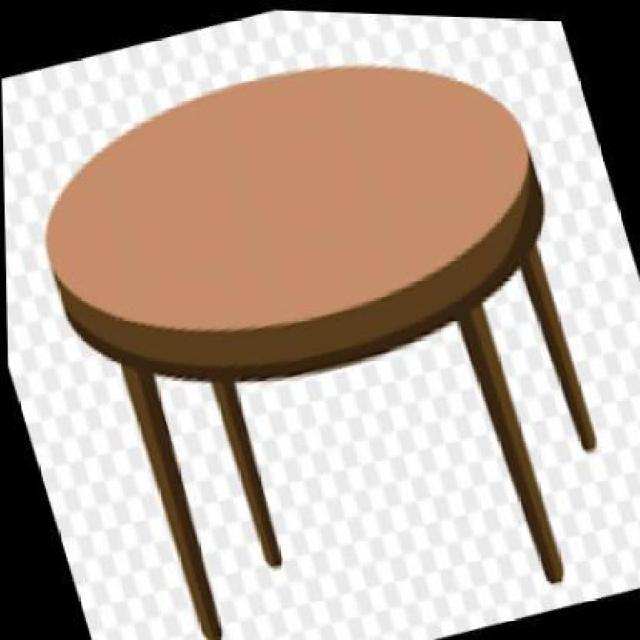tables: (43, 61, 594, 638)
